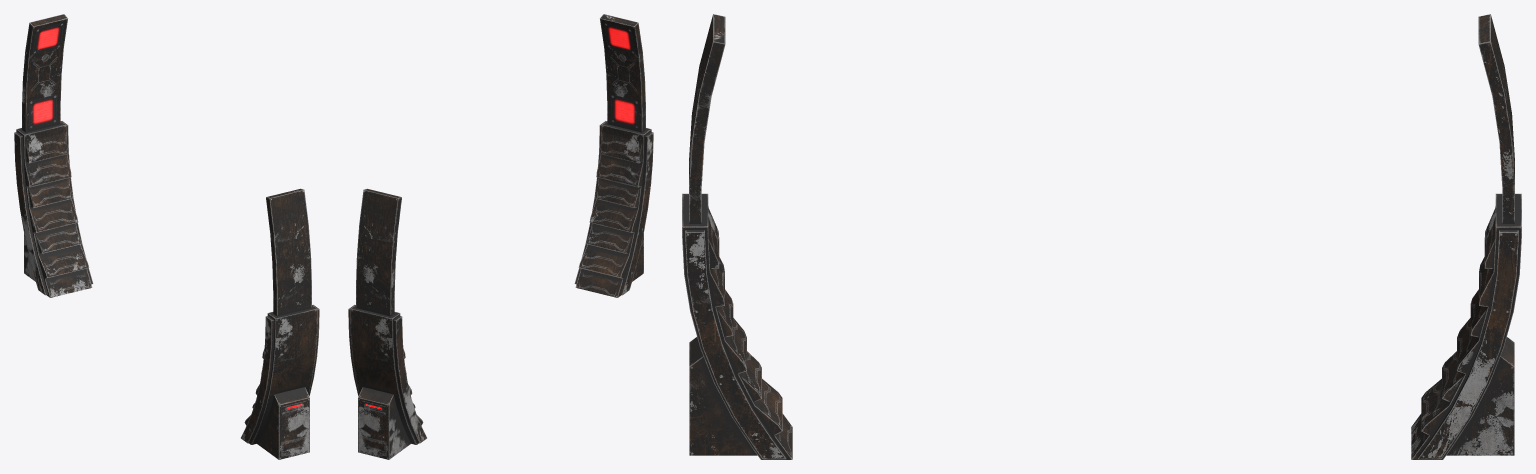
File: SM_TunnelC1.fbx
The picture shows the model from 3 angles, left to right: view 1: azimuth 30°, elevation 25°; view 2: azimuth 150°, elevation 25°; view 3: azimuth 270°, elevation 25°; orthographic projection. The views are drawn at different scales.
Parts seen in each view (by area): view 1: SM_TunnelC1_LOD0; view 2: SM_TunnelC1_LOD0; view 3: SM_TunnelC1_LOD0.
Part boxes in pixels (x1,y1,x2,y2): SM_TunnelC1_LOD0: (14,14,319,459); SM_TunnelC1_LOD0: (348,14,653,459); SM_TunnelC1_LOD0: (682,14,1521,459).
Size of the model in its own units: 227 by 2128 by 1162.
Materials: 1 (1 with a texture image).
